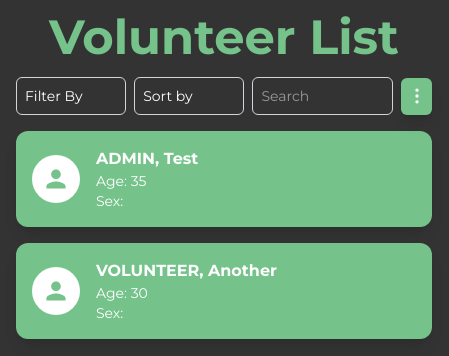
Volunteer List Page › filters by admin type
The image size is (449, 356).
Expected: the text "VOLUNTEER, Another" is shown, [96,261,277,280]
Select "Admins" in the 1st dropdown showing "Filter By": coordinates (71, 96) [16,77,126,115]
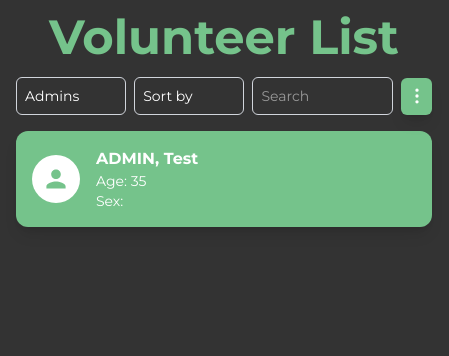
Expected: the text "ADMIN, Test" is shown, [96,149,198,168]
Expected: the link "VOLUNTEER, Another" is gone
